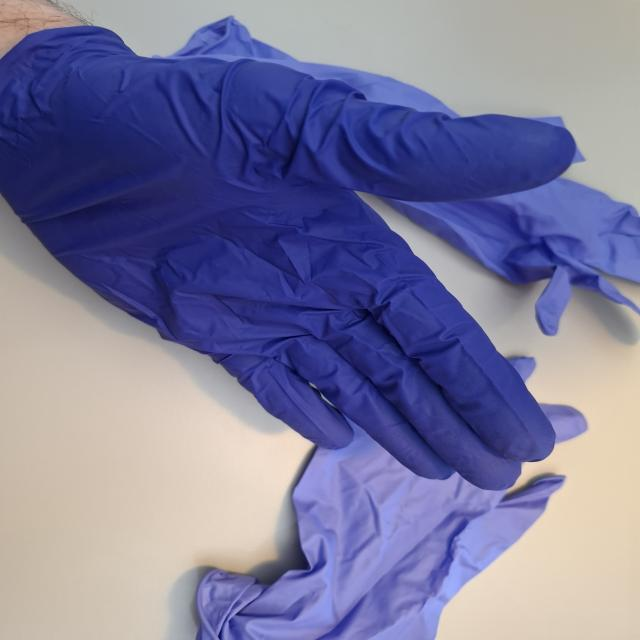glove_on: (0, 19, 578, 495)
